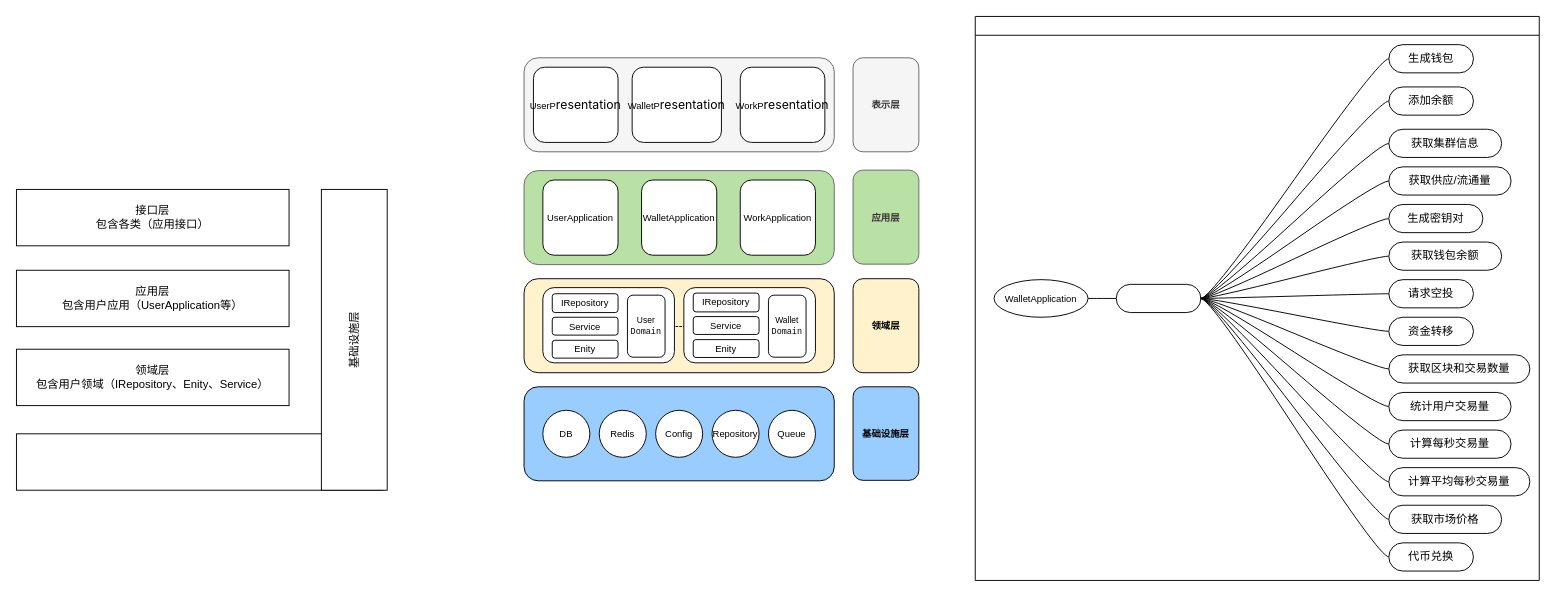
Image size: 1556x597. Some labels were removed from this diagram. Here are the shapes that lost their labels. From the top down, the box of each, then its label:
(1115, 283, 1201, 313): 钱包模块
(974, 16, 1539, 580): Mindmap
(16, 433, 383, 490): 基础设施层 包含DB、Redis、Config等
